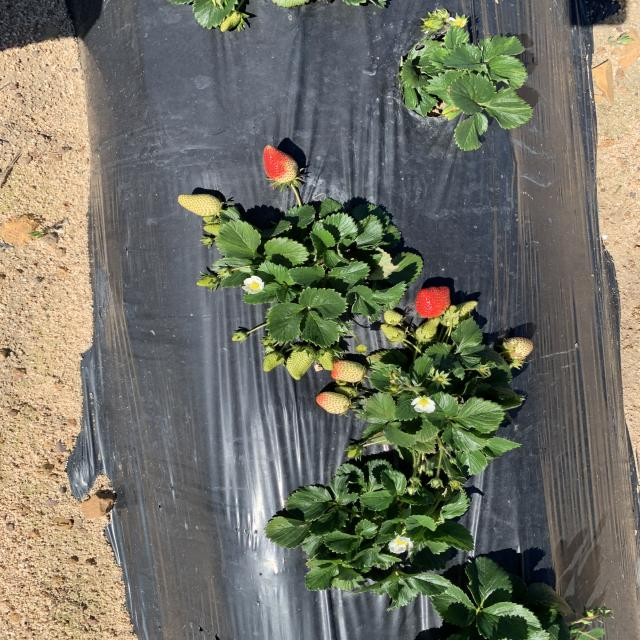unripe: (262, 142, 302, 187), (416, 285, 453, 317)
